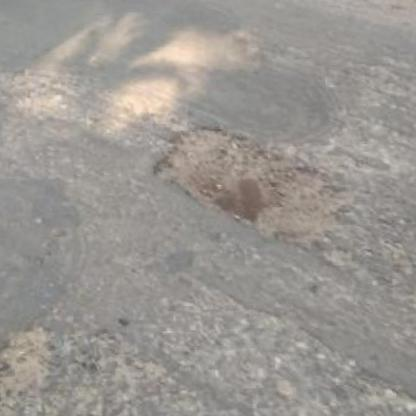pothole: (147, 117, 360, 254), (0, 319, 55, 406)
